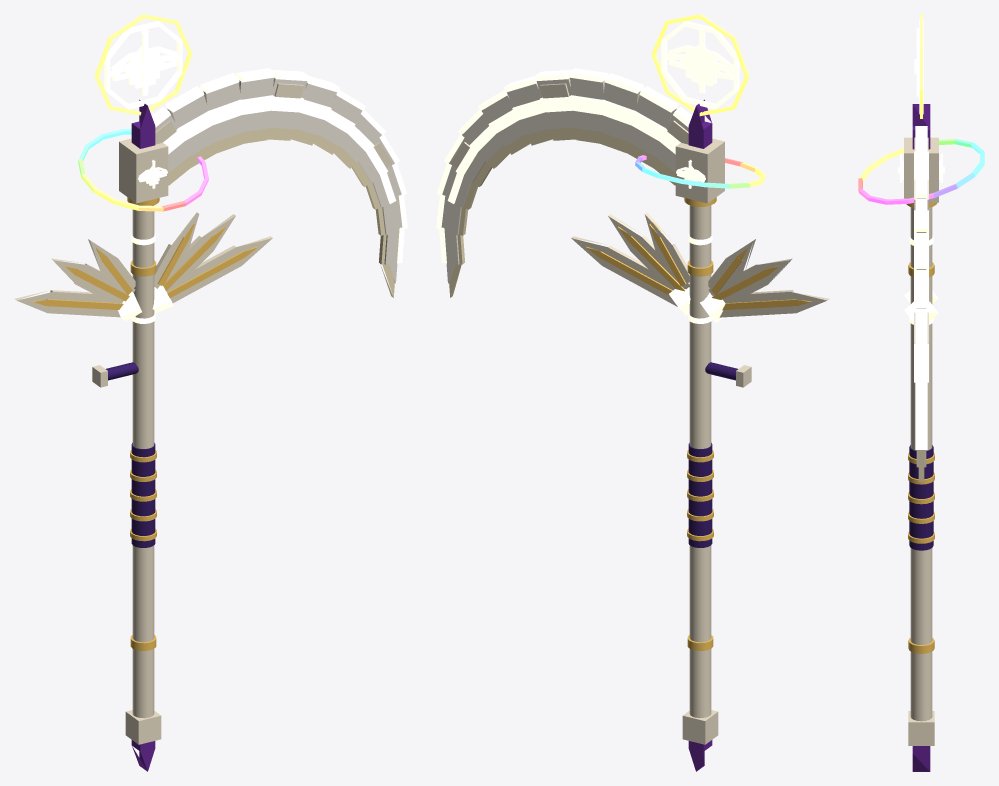
3 renders of one model, left to right at view 1: azimuth 30°, elevation 25°; view 2: azimuth 150°, elevation 25°; view 3: azimuth 270°, elevation 25°, orthographic.
Parts seen in each view (by area): view 1: imperium; view 2: imperium; view 3: imperium.
Part boxes in pixels (x1,y1,x2,y2): imperium: (14, 14, 407, 771); imperium: (436, 14, 829, 771); imperium: (858, 14, 984, 771).
Size of the model in its own units: 1.16 by 2.14 by 0.3251.
